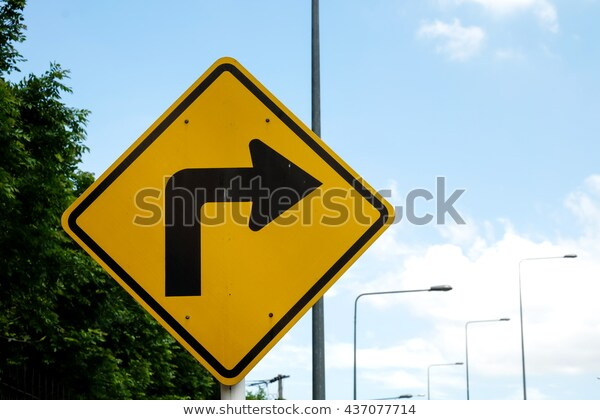right: (57, 52, 397, 390)
